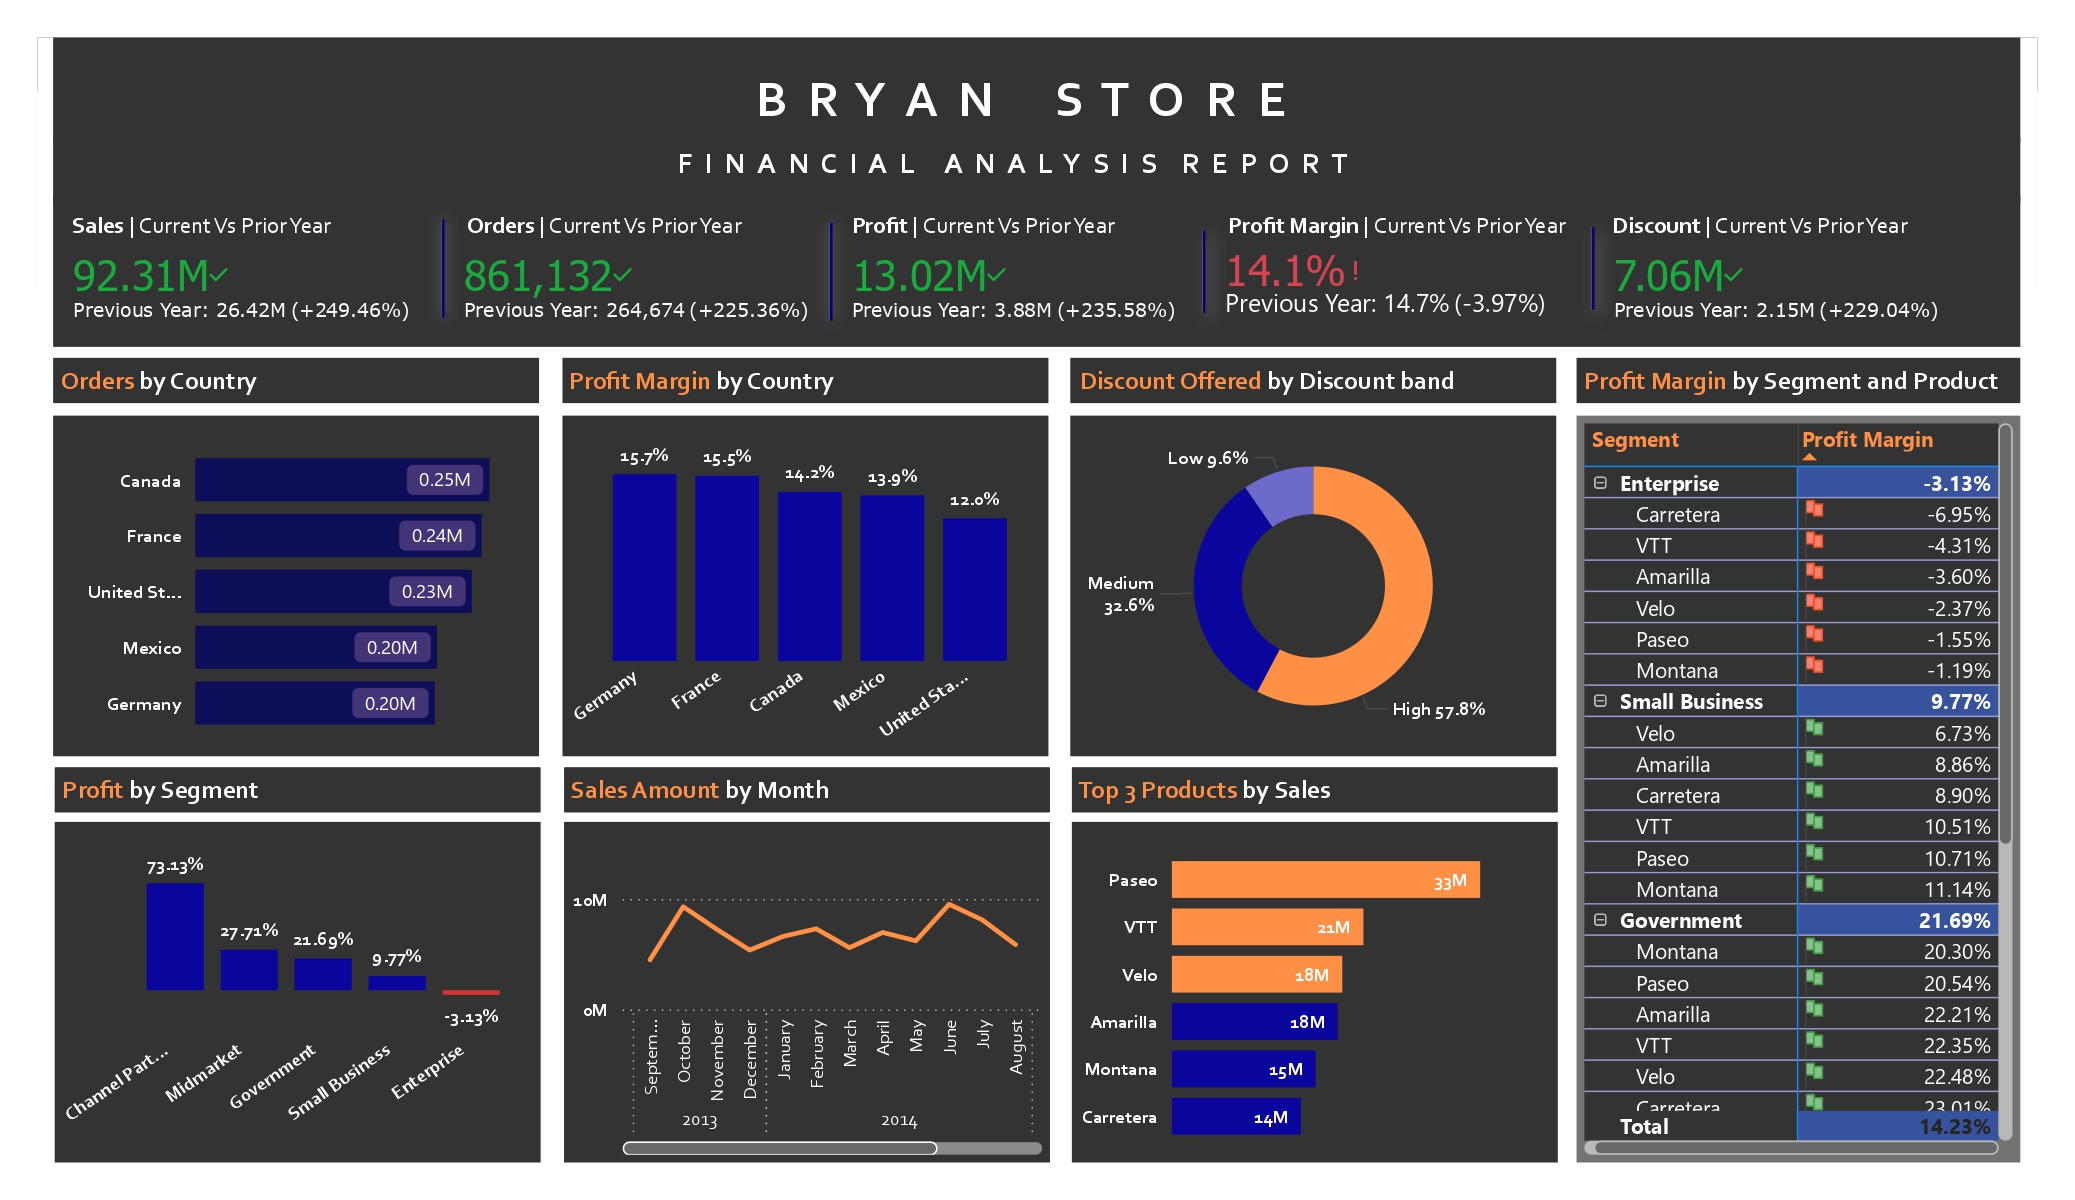

This screenshot's page, from the dashboard's own definition file:
{"tool":"powerbi","page":{"name":"Page 1","canvas":[1280,720],"ordinal":0},"visuals":[{"type":"shape","box":[10,0,1259,67],"z":0},{"type":"shape","box":[10,64,1259,42],"z":1000},{"type":"shape","box":[10,101,1259,97],"z":2000},{"type":"shape","box":[10,242,311,218],"z":3000},{"type":"shape","box":[10,205,311,29],"z":4000},{"type":"shape","box":[336,205,311,29],"z":5000},{"type":"shape","box":[661,205,311,29],"z":6000},{"type":"shape","box":[985,242,284,478],"z":7000},{"type":"shape","box":[985,205,284,29],"z":8000},{"type":"shape","box":[661,242,311,218],"z":9000},{"type":"shape","box":[336,242,311,218],"z":10000},{"type":"shape","box":[11,502,311,218],"z":11000},{"type":"shape","box":[11,466.5,311,29],"z":12000},{"type":"shape","box":[337,467,311,29],"z":13000},{"type":"shape","box":[662,467,311,29],"z":14000},{"type":"shape","box":[662,502,311,218],"z":15000},{"type":"shape","box":[337,502,311,218],"z":16000},{"type":"textbox","box":[405,64,449,35],"z":17000},{"type":"kpi","fields":{"Indicator":["Analysis.Sales Amount"],"TrendLine":["Date Table.Year"],"Goal":["Analysis.Sales Amount Last Year"]},"box":[10,127,237,64],"z":19000},{"type":"textbox","box":[17,106,230,29],"z":20000},{"type":"shape","box":[237,106,46,83],"z":21000},{"type":"kpi","fields":{"TrendLine":["Date Table.Year"],"Indicator":["Analysis.Orders"],"Goal":["Analysis.Orders Last Year"]},"box":[260,127,240,64],"z":22000},{"type":"kpi","fields":{"TrendLine":["Date Table.Year"],"Indicator":["Analysis.Profit"],"Goal":["Analysis.Profit Last Year"]},"box":[508,127,231,64],"z":23000},{"type":"kpi","fields":{"TrendLine":["Date Table.Year"],"Indicator":["Analysis.Profit Margin"],"Goal":["Analysis.Profit Margin Last Year"]},"box":[747,127,238,64],"z":24000},{"type":"kpi","fields":{"TrendLine":["Date Table.Year"],"Indicator":["Analysis.Discounts Offered"],"Goal":["Analysis.Discount Offered Last Year"]},"box":[996,127,260,64],"z":25000},{"type":"shape","box":[485,108,46,83],"z":26000},{"type":"shape","box":[724,108,46,83],"z":27000},{"type":"shape","box":[973,106,46,83],"z":28000},{"type":"textbox","box":[270,106,206,29],"z":29000},{"type":"textbox","box":[516,106,201,29],"z":30000},{"type":"textbox","box":[757,106,238,29],"z":31000},{"type":"textbox","box":[1003,106,219,29],"z":32000},{"type":"barChart","fields":{"Y":["Analysis.Orders"],"Category":["Financials.Country"]},"box":[10,242,311,218],"z":33000},{"type":"textbox","box":[10,205,294,29],"z":34000},{"type":"columnChart","fields":{"Y":["Analysis.Profit Margin"],"Category":["Financials.Country"]},"box":[335,242,313,218],"z":35000},{"type":"textbox","box":[335,205,294,29],"z":36000},{"type":"donutChart","fields":{"Y":["Analysis.Discounts Offered"],"Category":["Financials.Discount Band"]},"box":[661,242,311,218],"z":37000},{"type":"textbox","box":[662,205,294,29],"z":38000},{"type":"columnChart","fields":{"Category":["Financials.Segment"],"Y":["Analysis.Profit Margin"]},"box":[11,502,310,218],"z":39000},{"type":"textbox","box":[11,467,294,29],"z":40000},{"type":"lineChart","fields":{"Category":["Date Table.Date.Variation.Date Hierarchy.Year","Date Table.Date.Variation.Date Hierarchy.Month"],"Y":["Analysis.Sales Amount"]},"box":[337,502,311,218],"z":41000},{"type":"textbox","box":[336,467,294,29],"z":42000},{"type":"barChart","fields":{"Category":["Financials.Product"],"Y":["Analysis.Sales Amount"]},"box":[662,502,311,218],"z":43000},{"type":"textbox","box":[661,467,294,29],"z":44000},{"type":"pivotTable","fields":{"Rows":["Financials.Segment","Financials.Product"],"Values":["Analysis.Profit Margin"]},"box":[985,242,284,478],"z":45000},{"type":"textbox","box":[985,205,284,29],"z":46000},{"type":"textbox","box":[448,15,363,49],"z":47000}]}

Visuals, with their boxes on the page's 1280x720 design canvas (x1, y1, x2, y2). These are canvas units, not pixel positions in the 2075x1200 screenshot, which may show the page scaled, cropped or inside an application window:
shape: rect(10, 0, 1269, 67)
shape: rect(10, 64, 1269, 106)
shape: rect(10, 101, 1269, 198)
shape: rect(10, 242, 321, 460)
shape: rect(10, 205, 321, 234)
shape: rect(336, 205, 647, 234)
shape: rect(661, 205, 972, 234)
shape: rect(985, 242, 1269, 720)
shape: rect(985, 205, 1269, 234)
shape: rect(661, 242, 972, 460)
shape: rect(336, 242, 647, 460)
shape: rect(11, 502, 322, 720)
shape: rect(11, 466, 322, 496)
shape: rect(337, 467, 648, 496)
shape: rect(662, 467, 973, 496)
shape: rect(662, 502, 973, 720)
shape: rect(337, 502, 648, 720)
textbox: rect(405, 64, 854, 99)
kpi - Analysis.Sales Amount x Date Table.Year: rect(10, 127, 247, 191)
textbox: rect(17, 106, 247, 135)
shape: rect(237, 106, 283, 189)
kpi - Date Table.Year x Analysis.Orders: rect(260, 127, 500, 191)
kpi - Date Table.Year x Analysis.Profit: rect(508, 127, 739, 191)
kpi - Date Table.Year x Analysis.Profit Margin: rect(747, 127, 985, 191)
kpi - Date Table.Year x Analysis.Discounts Offered: rect(996, 127, 1256, 191)
shape: rect(485, 108, 531, 191)
shape: rect(724, 108, 770, 191)
shape: rect(973, 106, 1019, 189)
textbox: rect(270, 106, 476, 135)
textbox: rect(516, 106, 717, 135)
textbox: rect(757, 106, 995, 135)
textbox: rect(1003, 106, 1222, 135)
barChart - Analysis.Orders x Financials.Country: rect(10, 242, 321, 460)
textbox: rect(10, 205, 304, 234)
columnChart - Analysis.Profit Margin x Financials.Country: rect(335, 242, 648, 460)
textbox: rect(335, 205, 629, 234)
donutChart - Analysis.Discounts Offered x Financials.Discount Band: rect(661, 242, 972, 460)
textbox: rect(662, 205, 956, 234)
columnChart - Financials.Segment x Analysis.Profit Margin: rect(11, 502, 321, 720)
textbox: rect(11, 467, 305, 496)
lineChart - Date Table.Date.Variation.Date Hierarchy.Year x Date Table.Date.Variation.Date Hierarchy.Month: rect(337, 502, 648, 720)
textbox: rect(336, 467, 630, 496)
barChart - Financials.Product x Analysis.Sales Amount: rect(662, 502, 973, 720)
textbox: rect(661, 467, 955, 496)
pivotTable - Financials.Segment x Financials.Product: rect(985, 242, 1269, 720)
textbox: rect(985, 205, 1269, 234)
textbox: rect(448, 15, 811, 64)
